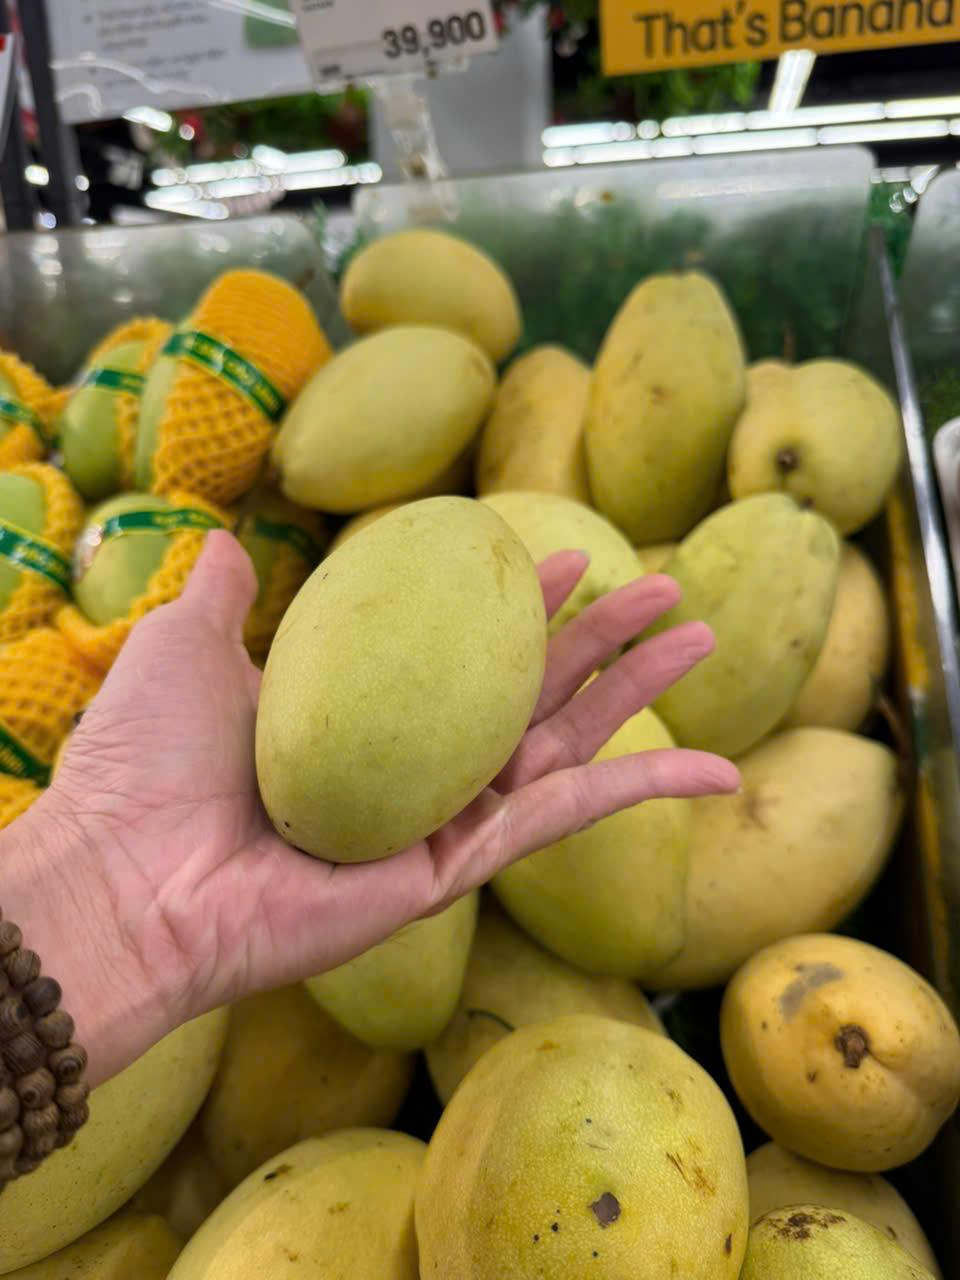mango: (257, 486, 560, 860), (397, 986, 756, 1280), (710, 910, 960, 1158), (708, 726, 918, 947), (260, 303, 496, 500), (580, 256, 740, 540), (160, 1131, 438, 1280), (673, 506, 842, 746), (740, 366, 908, 543)
